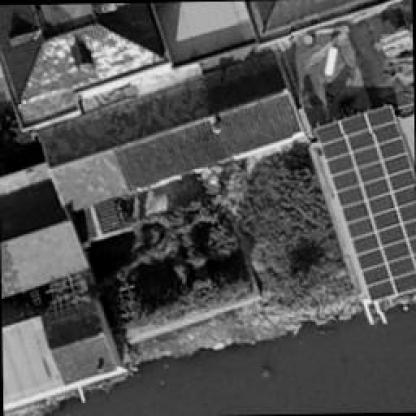solar-pv-panel: (314, 104, 416, 300)
